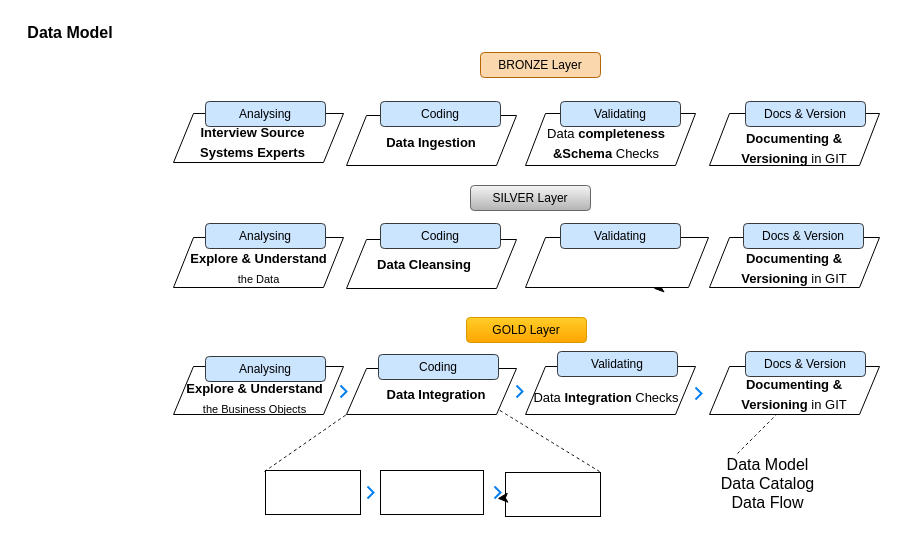
Image size: 897x534. Some labels were removed from this diagram. The centre of each missing label's shape, as x and y in pixels:
Build The Business Objects: the point at 312,492
Choose Type Dimension vs Fact: the point at 432,492
Data Correctness Checks: the point at 616,262
Rename to friendly names: the point at 552,494
